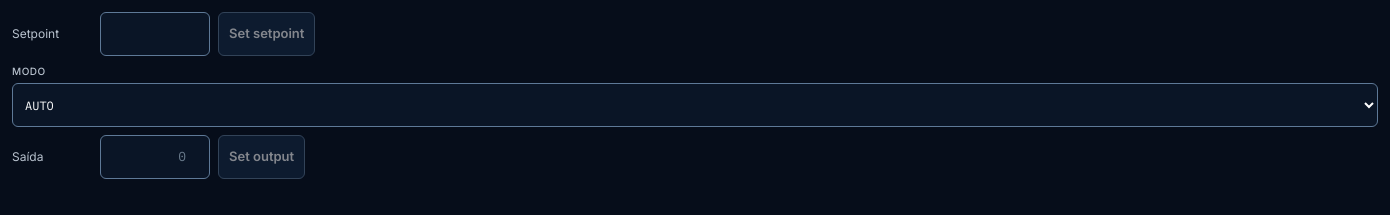
Test: CardControls › blocks a setpoint outside the loop SP limits before it reaches the wire
In the number field labelled "Setpoint": (155, 34) top-left (100, 12), bottom-right (210, 56), type "160"
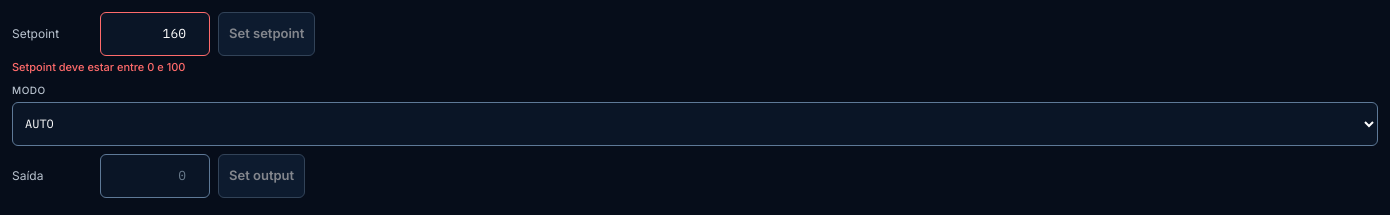
expect the button "Set setpoint" is disabled: met, box top-left (218, 12), bottom-right (315, 56)
expect the text "Setpoint deve estar entre 0 e 100" is shown: met, box top-left (12, 60), bottom-right (186, 74)
